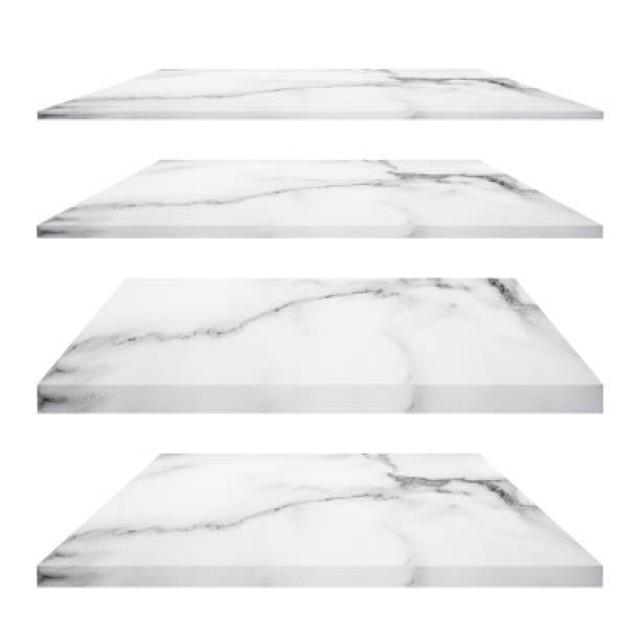Metamorphic: (34, 444, 610, 590), (38, 276, 610, 414), (34, 152, 606, 248), (37, 64, 608, 121)
